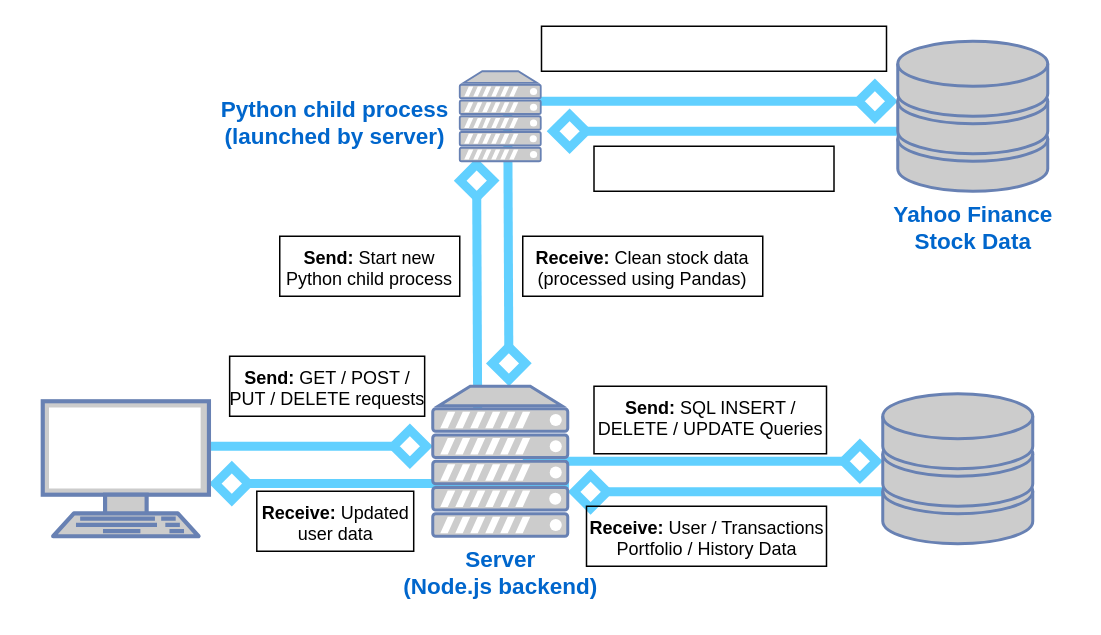
The diagram is 1101 pixels wide and 635 high, and some of its shapes have lost their labels. The centre of each missing label's shape, as x and y in pixels:
"Client (React.js frontend)" belongs at (x=125, y=468).
"PostgreSQL Database (hosted on Heroku)" belongs at (x=957, y=468).
"Receive: Raw stock data" belongs at (x=713, y=168).
"Send: Stock data request via YFinance" belongs at (x=713, y=48).
